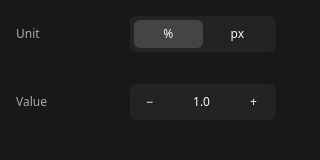
Test: UnitValue › stepValue hoạt động đúng: +1, -1
Click the button "+" at (253, 102), box x1=234 y1=84 x2=273 y2=120
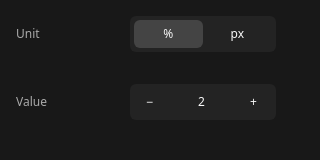
Result: the field holds "2" at x1=169 y1=84 x2=234 y2=120
Click the button "−" at (150, 102), box x1=130 y1=84 x2=169 y2=120
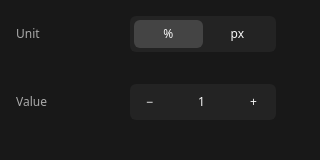
Result: the field holds "1" at x1=169 y1=84 x2=234 y2=120
